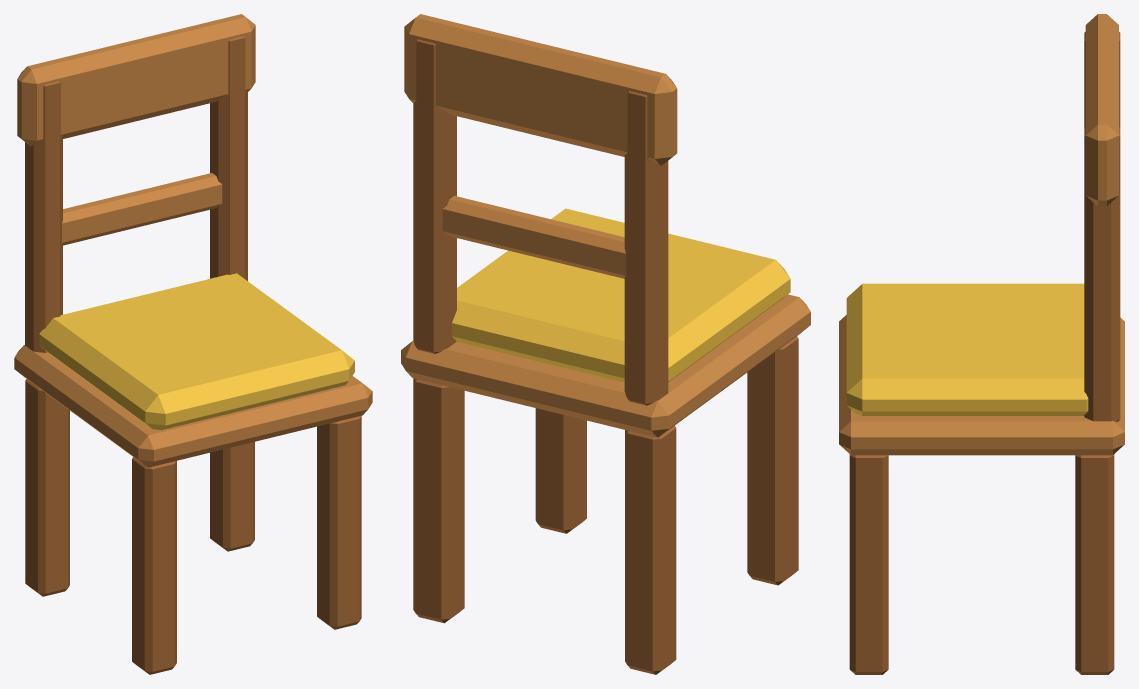
File: YellowDiningChair.fbx
The picture shows the model from 3 angles, left to right: view 1: azimuth 30°, elevation 25°; view 2: azimuth 150°, elevation 25°; view 3: azimuth 270°, elevation 25°; orthographic projection. The views are drawn at different scales.
Parts seen in each view (by area): view 1: YellowDiningChair; view 2: YellowDiningChair; view 3: YellowDiningChair.
Boxes of the visible parts, box(x1,y1,x2,y2) form: YellowDiningChair: box(14, 14, 372, 674); YellowDiningChair: box(401, 14, 810, 674); YellowDiningChair: box(839, 14, 1124, 674).
Bounding box in the file's own units: 1.9 × 4.05 × 1.9.
Materials: 1 (1 with a texture image).
